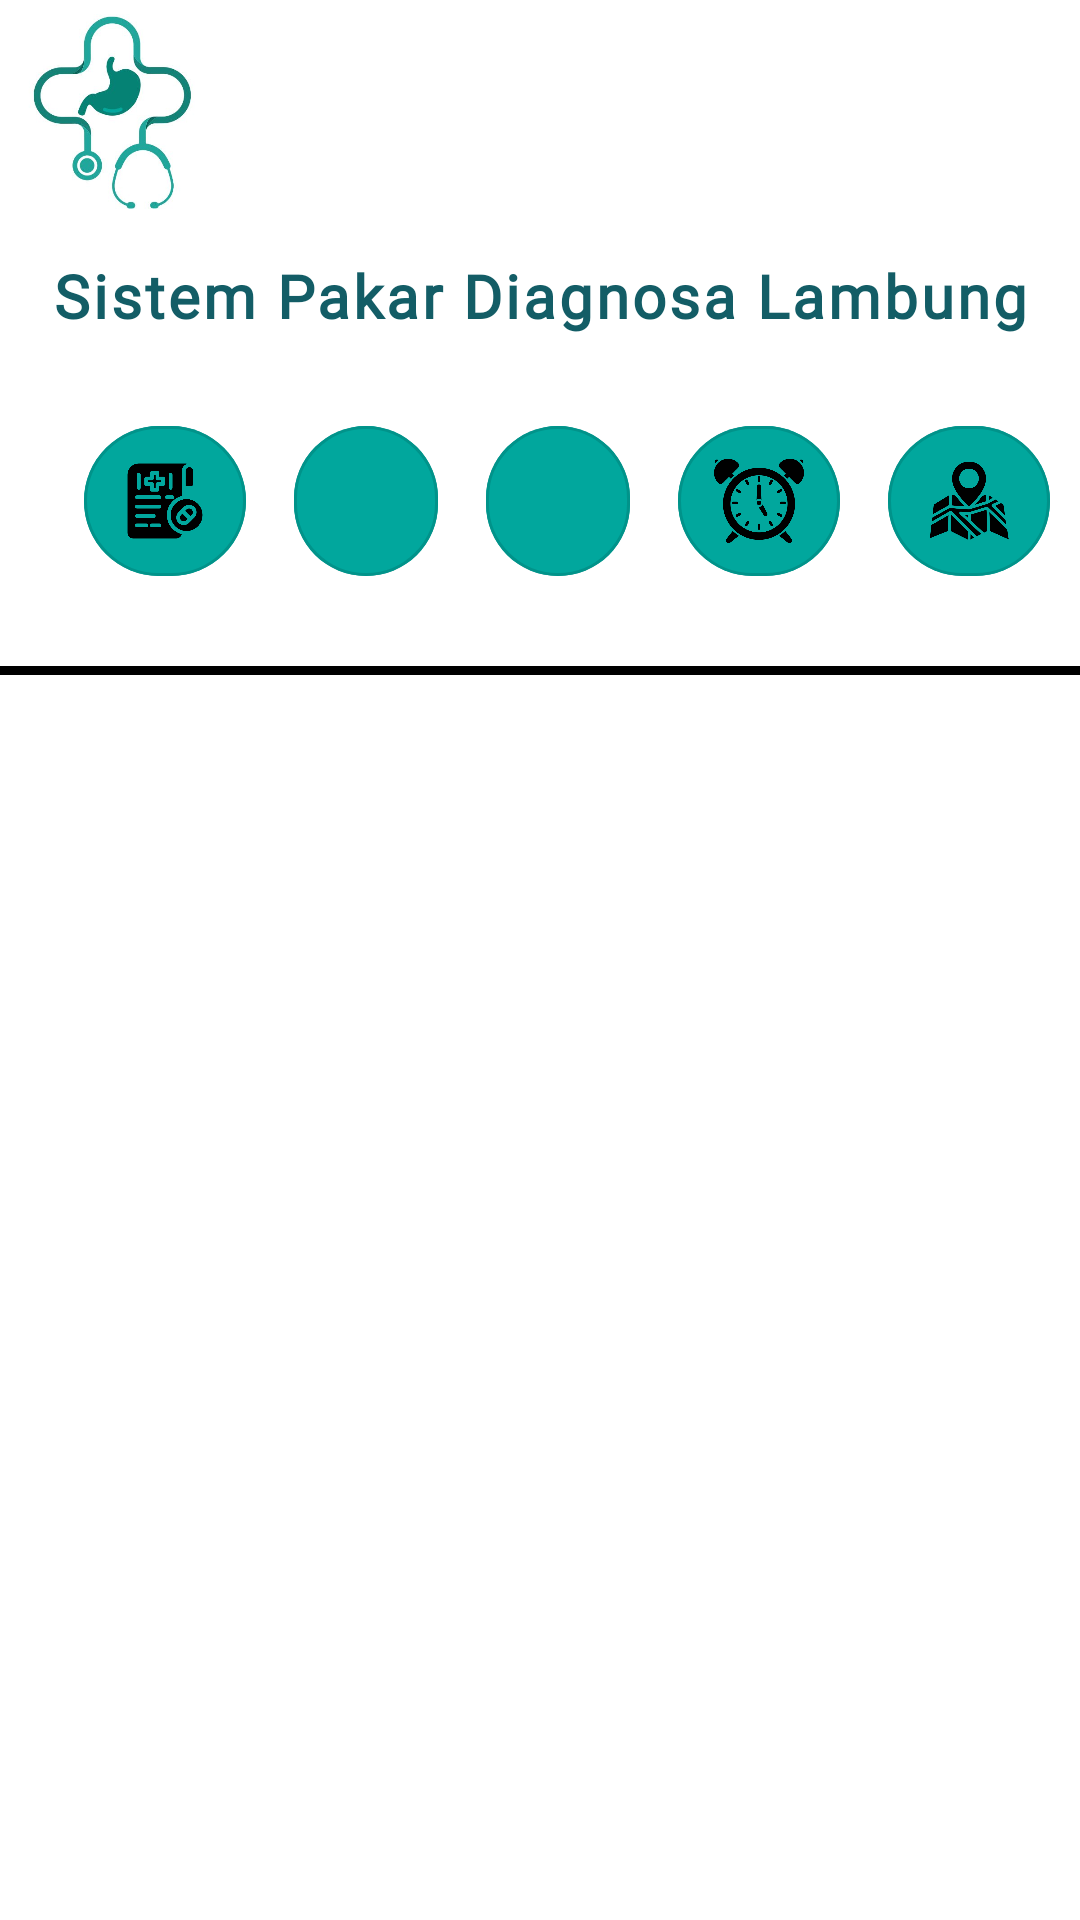

Screen size 1080w x 1920h. Icon name, then its center in pixels as (x,y):
Diagnose Button: (165,501)
Location Button: (969,501)
Schedule Button: (759,501)
